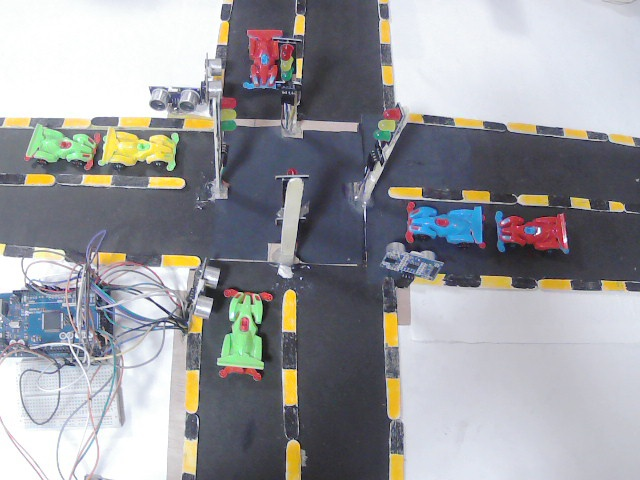car: (489, 203, 589, 263), (398, 206, 494, 263), (24, 115, 114, 173), (97, 119, 184, 176), (226, 283, 267, 389), (242, 19, 281, 95)
traffic_light: (274, 159, 310, 209), (278, 39, 307, 101), (366, 105, 400, 151), (216, 94, 242, 143)
uno_breadboard: (0, 258, 130, 440), (174, 253, 225, 364), (382, 240, 451, 298), (142, 74, 212, 116), (195, 51, 227, 108)
